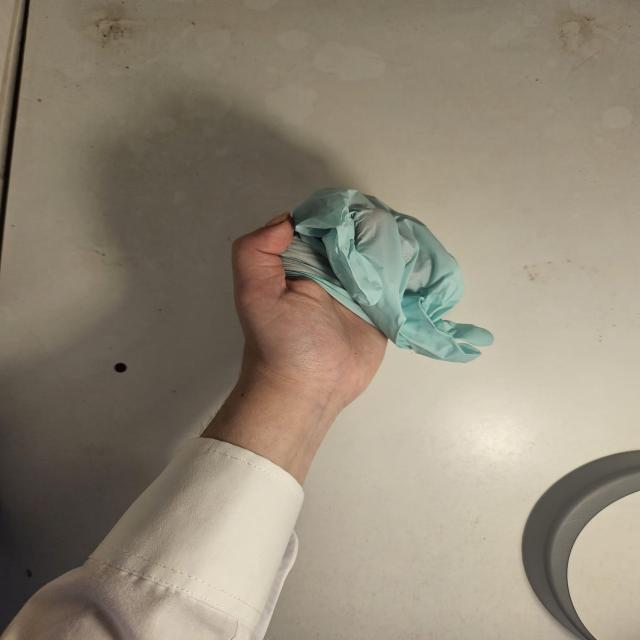glove_partial: (231, 186, 494, 384)
